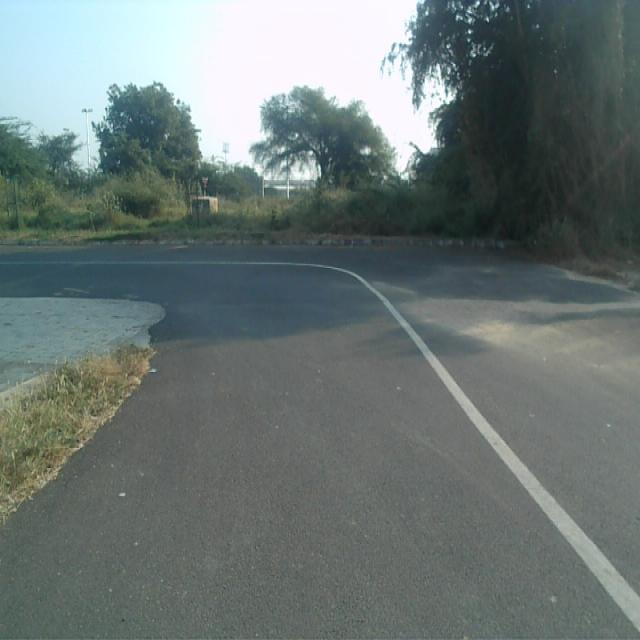lane: (0, 263, 638, 640)
